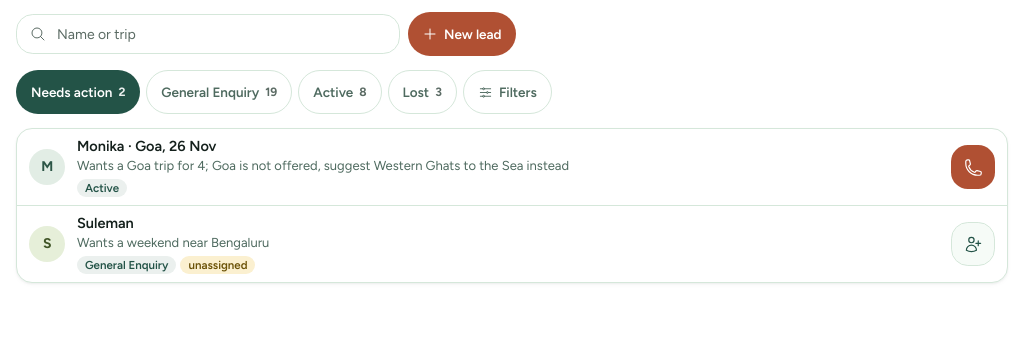
Test: Phone Leads › switches to a stage and searches what is loaded
Click the button "Active 8": x=340, y=92 [298,70,382,114]
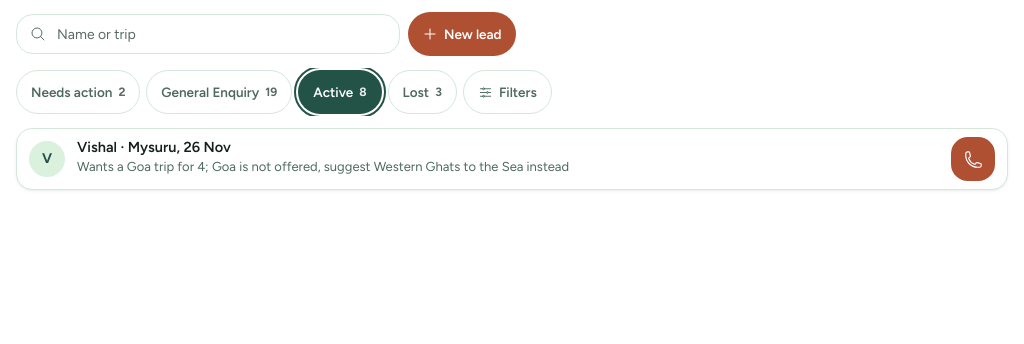
Check: the text "Vishal · Mysuru, 26 Nov" is shown, box [77,138,231,156]
In the field named "Search leads": x=208, y=34 [16,14,400,54], type "goa"
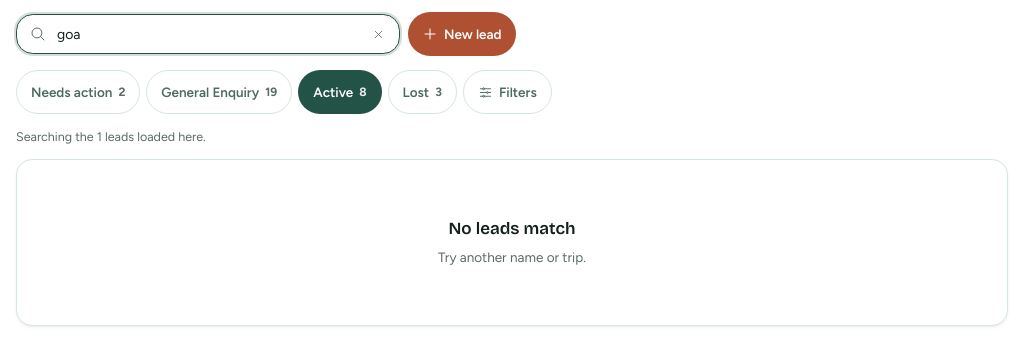
Check: the text "No leads match" is shown, box [448,216,576,241]
